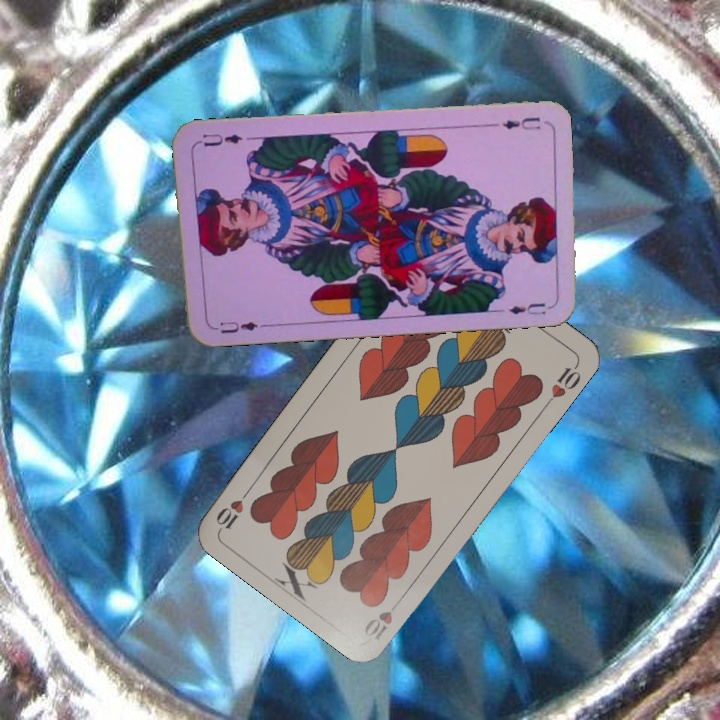EU: (207, 317, 267, 336), (498, 113, 543, 133)
H10: (360, 592, 406, 643)
